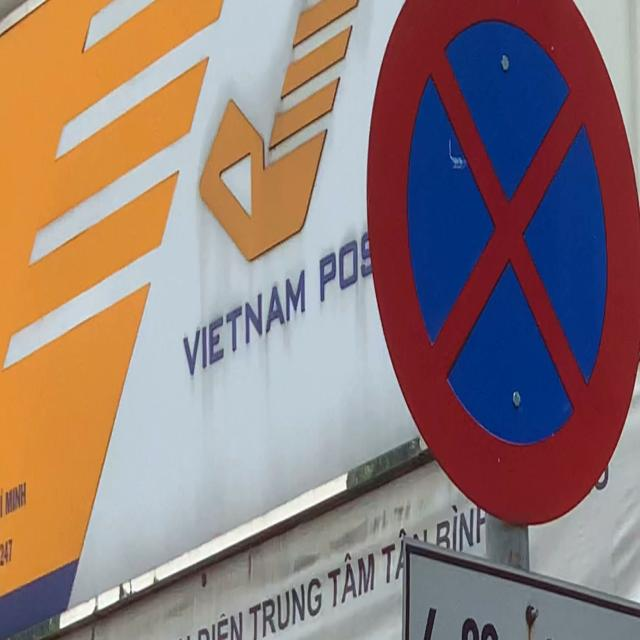Cam dung va do: (360, 0, 640, 545)
